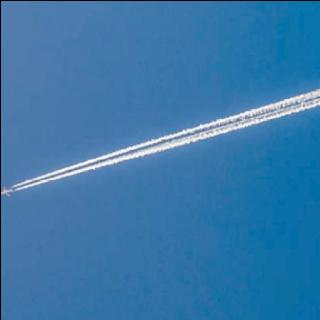Contrails: (8, 86, 318, 188)
